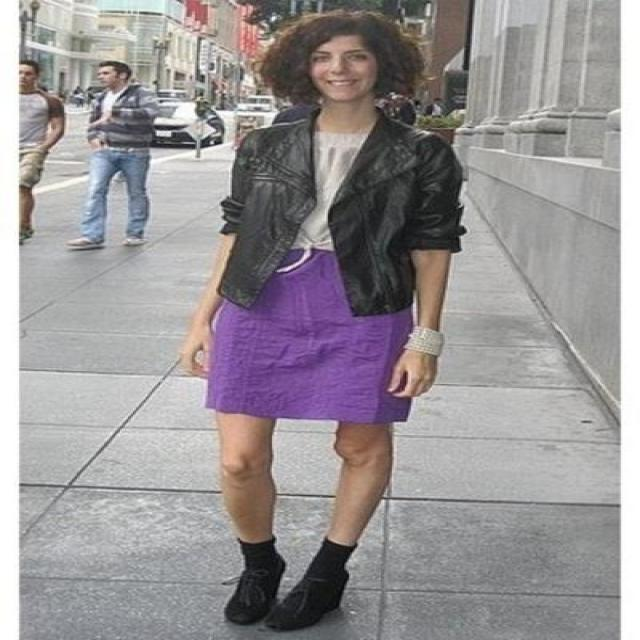jacket: (216, 97, 466, 316)
shirt: (291, 130, 363, 250)
shoe: (224, 566, 347, 632)
skirt: (181, 248, 438, 422)
